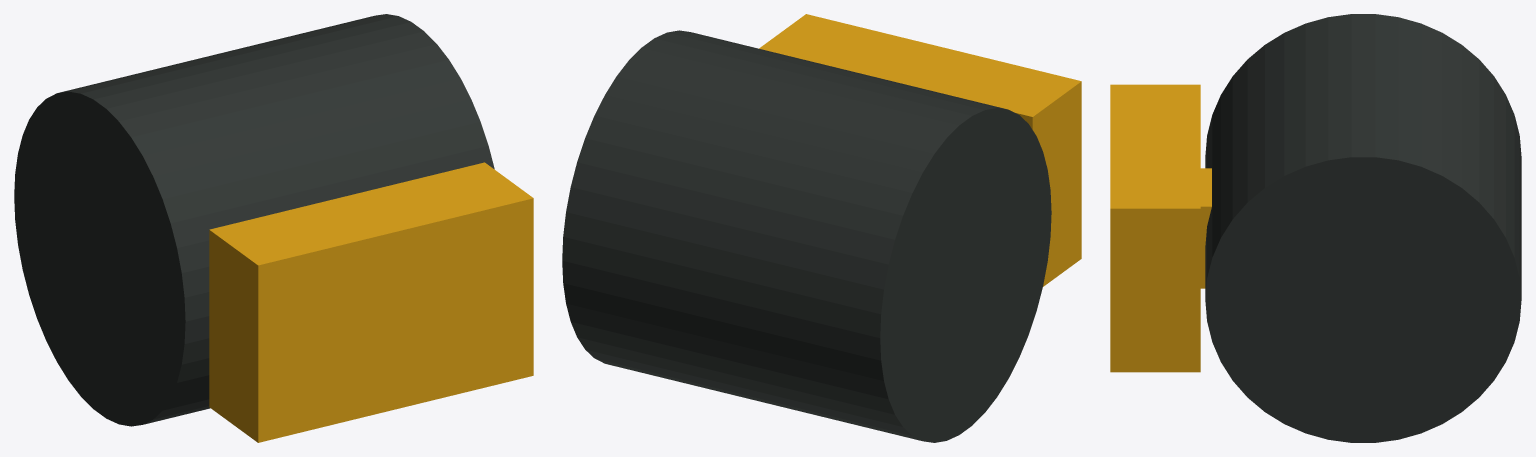
Rendered from auger_feed_link.obj.
3 renders of one model, left to right at view 1: azimuth 30°, elevation 25°; view 2: azimuth 150°, elevation 25°; view 3: azimuth 270°, elevation 25°, orthographic. The views are drawn at different scales.
Parts seen in each view (by area): view 1: motor_0, carriage_1; view 2: motor_0, carriage_1; view 3: motor_0, carriage_1.
Part boxes in pixels (x1=…): motor_0: x1=14, y1=14, x2=494, y2=426; carriage_1: x1=209, y1=162, x2=533, y2=442; motor_0: x1=562, y1=30, x2=1051, y2=442; carriage_1: x1=759, y1=14, x2=1081, y2=286; motor_0: x1=1205, y1=14, x2=1521, y2=442; carriage_1: x1=1110, y1=84, x2=1211, y2=372.
Size of the model in its own units: 0.15 by 0.1396 by 0.182.
